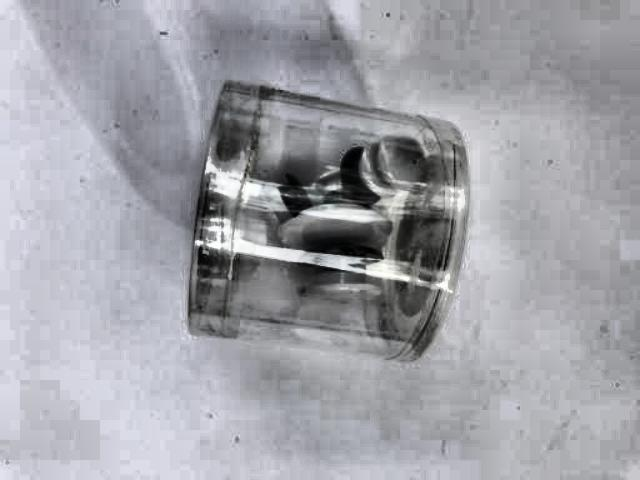Plastic: (143, 71, 475, 388)
